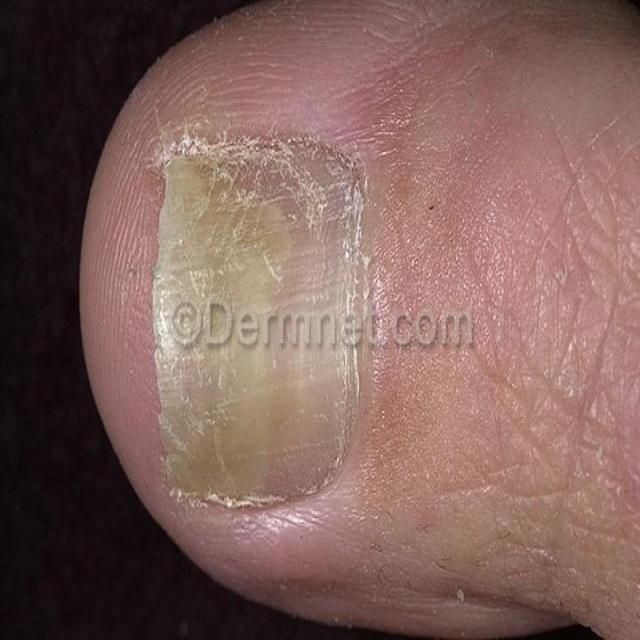Nail: (154, 130, 360, 507)
